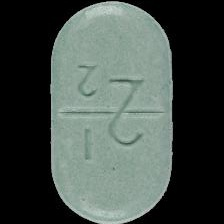68084-027: (0, 0, 224, 224)
